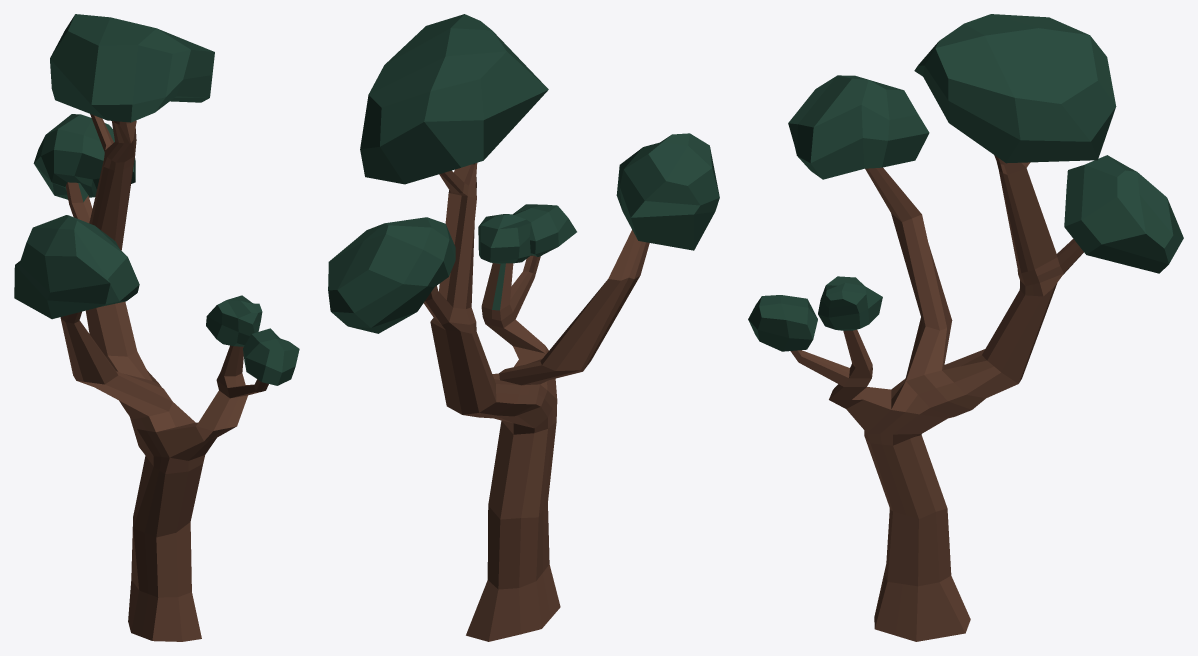
The model's file is tree 1.fbx.
3 views of the same model, side by side, from view 1: azimuth 30°, elevation 25°; view 2: azimuth 150°, elevation 25°; view 3: azimuth 270°, elevation 25° (orthographic). The views are drawn at different scales.
Visible parts, largest first — view 1: Cube; view 2: Cube; view 3: Cube.
Part boxes in pixels (x1,y1,x2,y2): Cube: (14, 14, 299, 641); Cube: (328, 14, 719, 641); Cube: (748, 14, 1183, 641).
Bounding box in the file's own units: 174 × 394 × 256.
